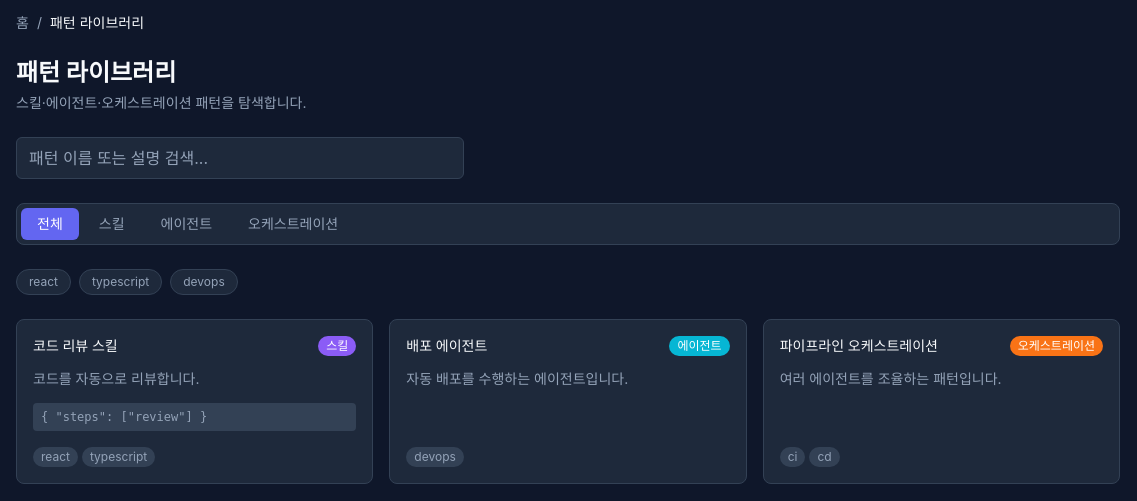
Scenario: PatternLibrary Integration › 시나리오 2: 유형 필터 › "에이전트" 탭 클릭 시 에이전트 패턴만 표시된다
Expected: the heading "코드 리뷰 스킬" is shown, [33,337,118,354]
# Click the 에이전트 tab
Click the tab "에이전트" at (186, 224), box [144,208,228,240]
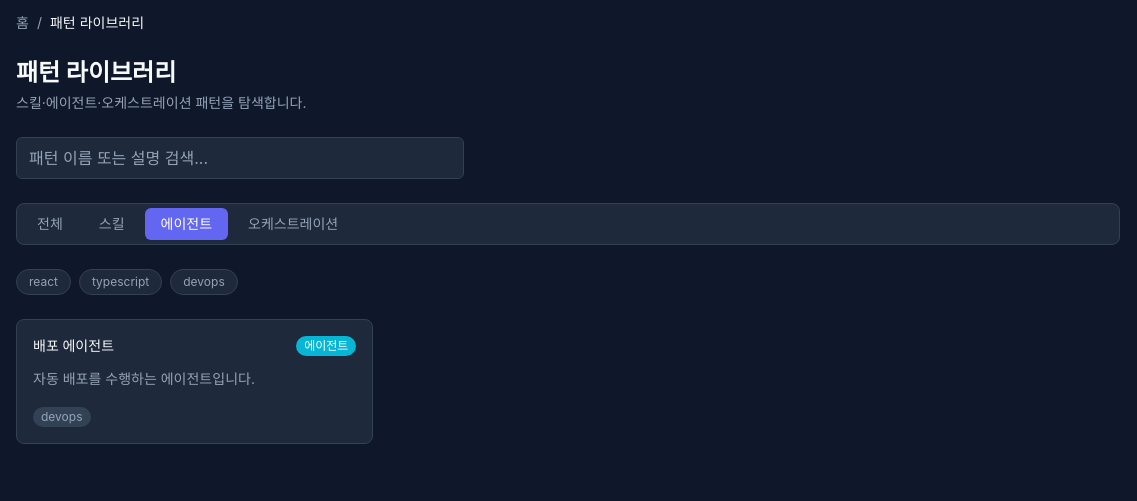
Expected: the heading "배포 에이전트" is shown, [33,337,114,354]
Now the link "코드 리뷰 스킬" is gone
Now the link "파이프라인 오케스트레이션" is gone
